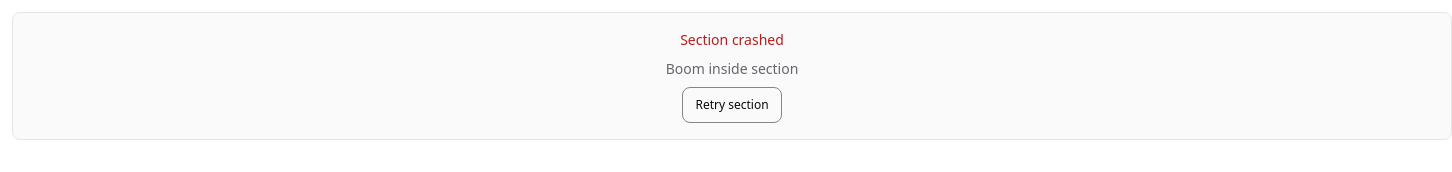
Test case: AsyncBoundary › catches thrown render errors via ErrorBoundary and recovers on retry
The image size is (1452, 172).
Expected: the text "Section crashed" is shown, [680,29,784,50]
Expected: the text "Boom inside section" is shown, [666,58,798,79]
Click the button "Retry section" at (732, 105), box [682,87,782,123]
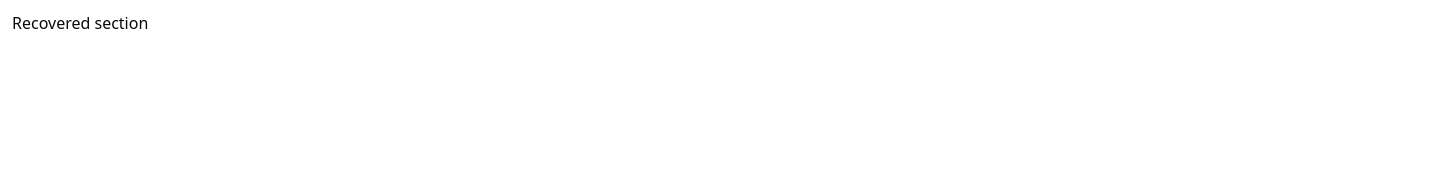
Result: the text "Recovered section" is shown at [12,12,148,34]
